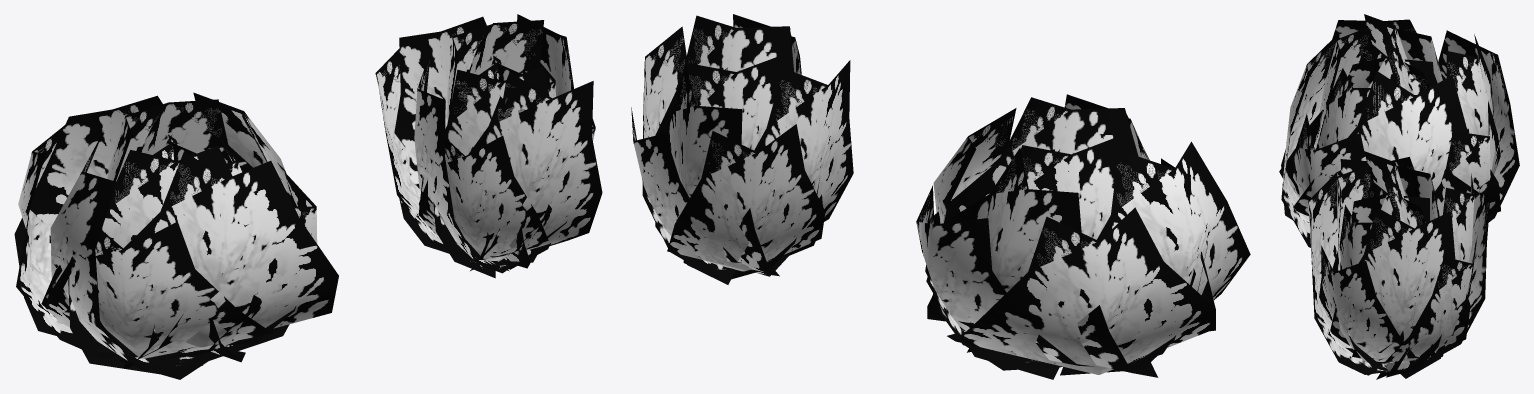
Rendered from 03_Bushes.fbx.
The picture shows the model from 3 angles, left to right: view 1: azimuth 30°, elevation 25°; view 2: azimuth 150°, elevation 25°; view 3: azimuth 270°, elevation 25°; orthographic projection. The views are drawn at different scales.
Parts seen in each view (by area): view 1: Bush_V2, Bush_V1; view 2: Bush_V2, Bush_V1; view 3: Bush_V1, Bush_V2.
Part boxes in pixels (x1=…): Bush_V2: x1=14, y1=92, x2=338, y2=379; Bush_V1: x1=375, y1=14, x2=602, y2=278; Bush_V2: x1=916, y1=94, x2=1250, y2=379; Bush_V1: x1=631, y1=14, x2=853, y2=284; Bush_V1: x1=1308, y1=151, x2=1490, y2=379; Bush_V2: x1=1279, y1=14, x2=1519, y2=247.
Bounding box in the file's own units: 3.39 × 1.4 × 1.49.
Materials: 1 (1 with a texture image).
